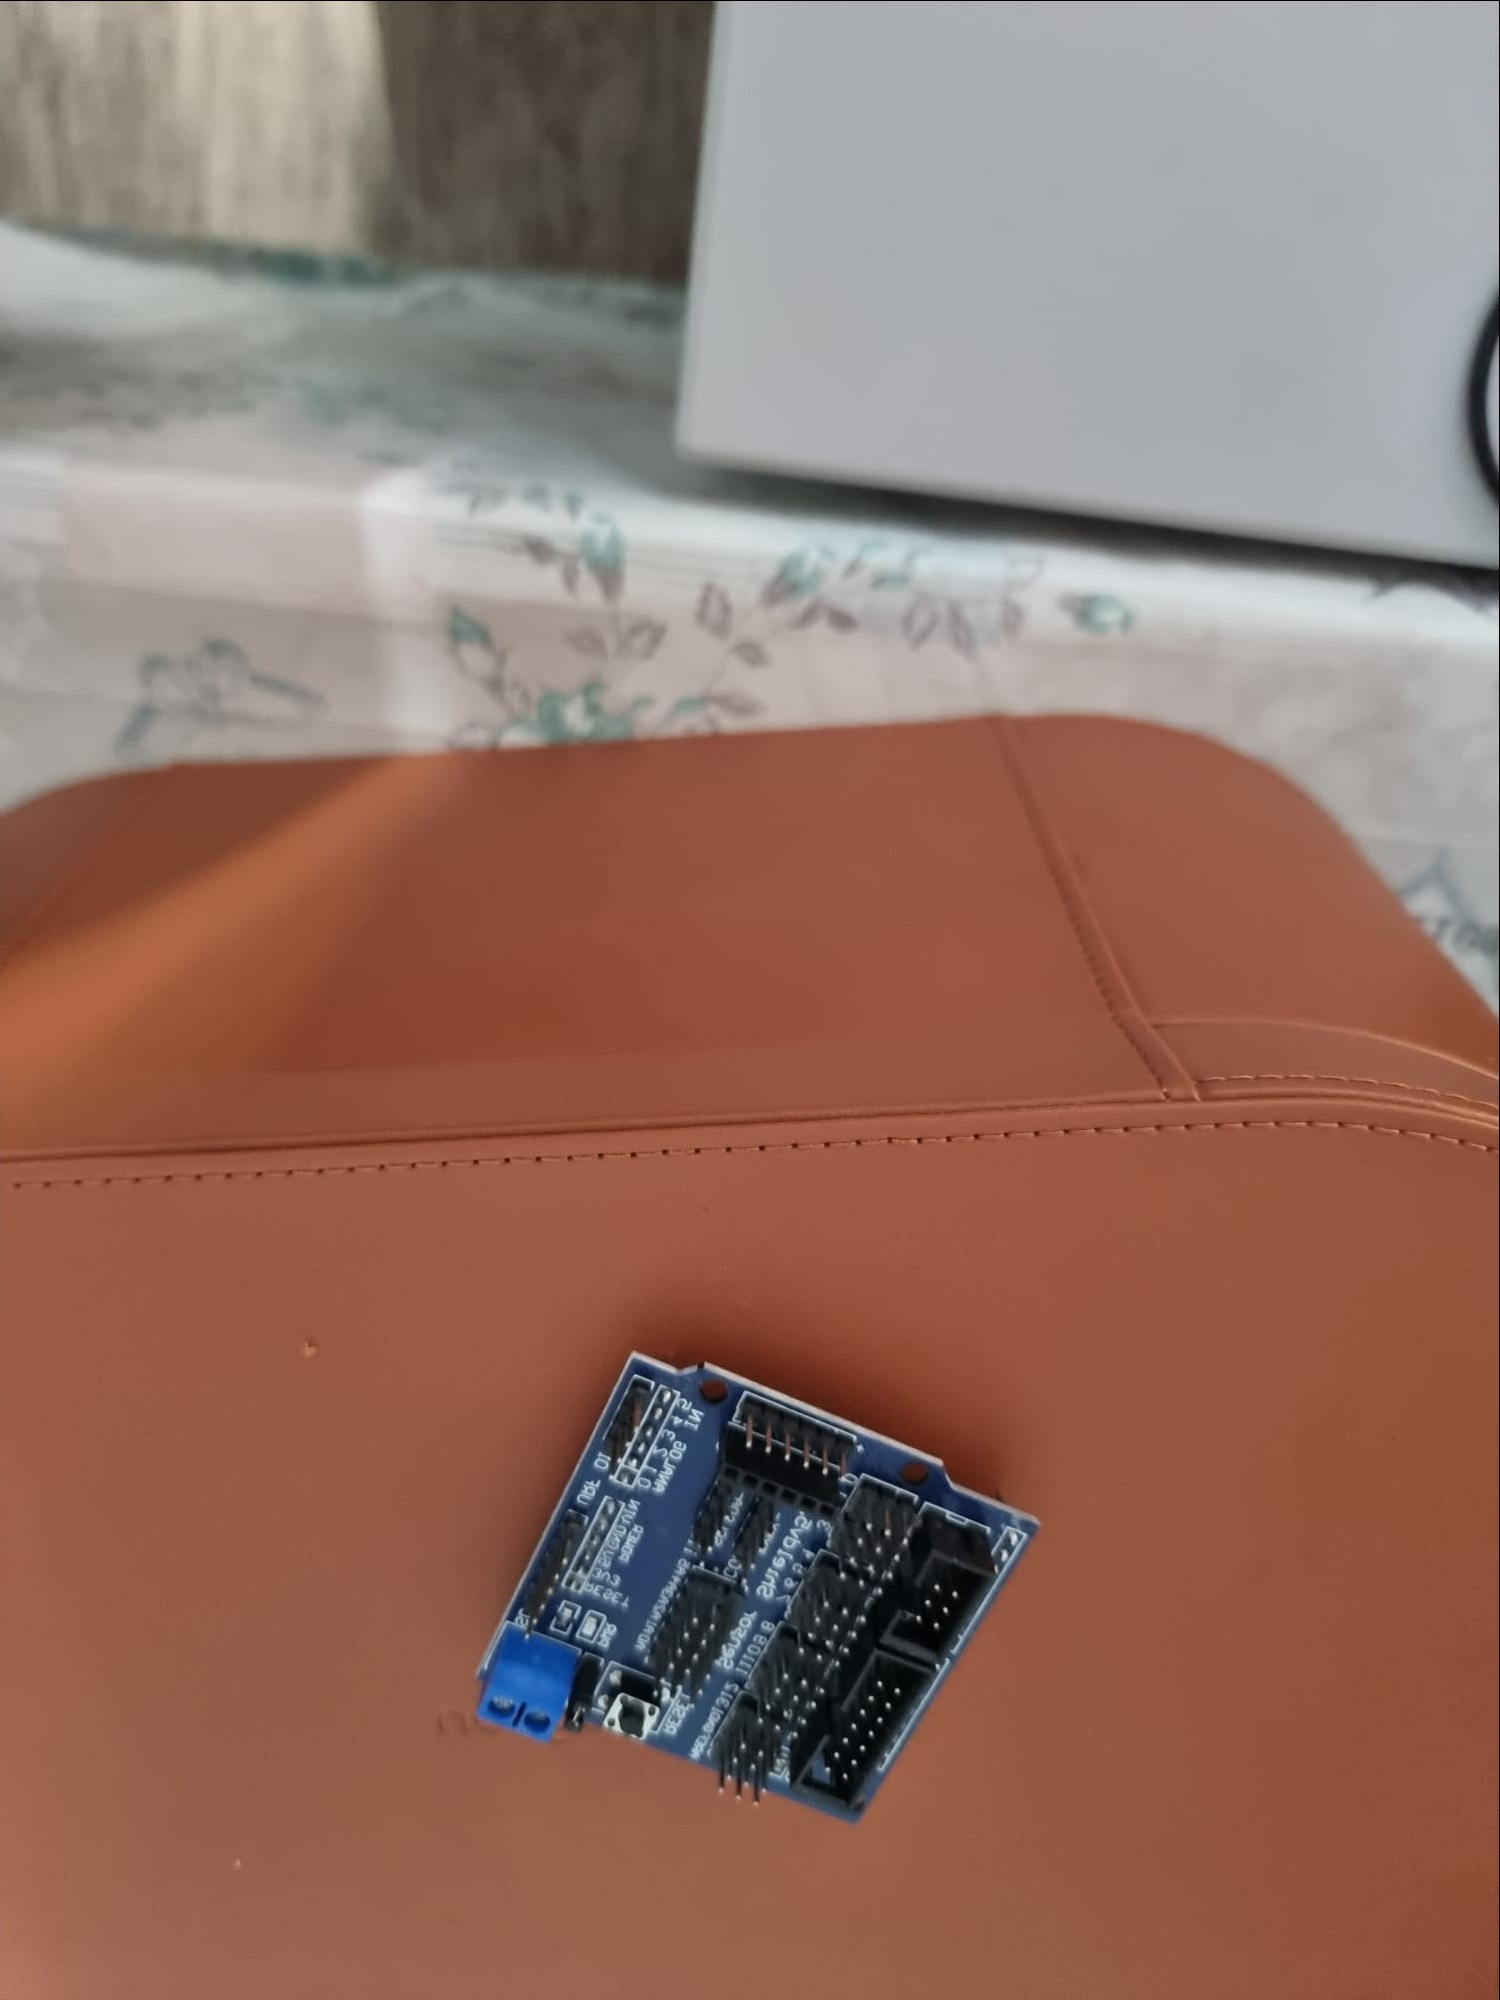5V EXPANSION: (476, 1350, 1059, 1841)
